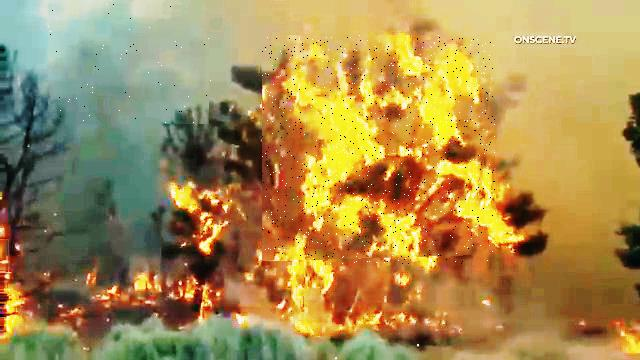fire: (262, 36, 495, 265)
smoke: (49, 2, 212, 124)
